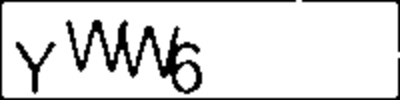6: (169, 39, 205, 94)
W: (60, 15, 131, 72), (119, 23, 183, 80)
Y: (11, 36, 58, 96)
